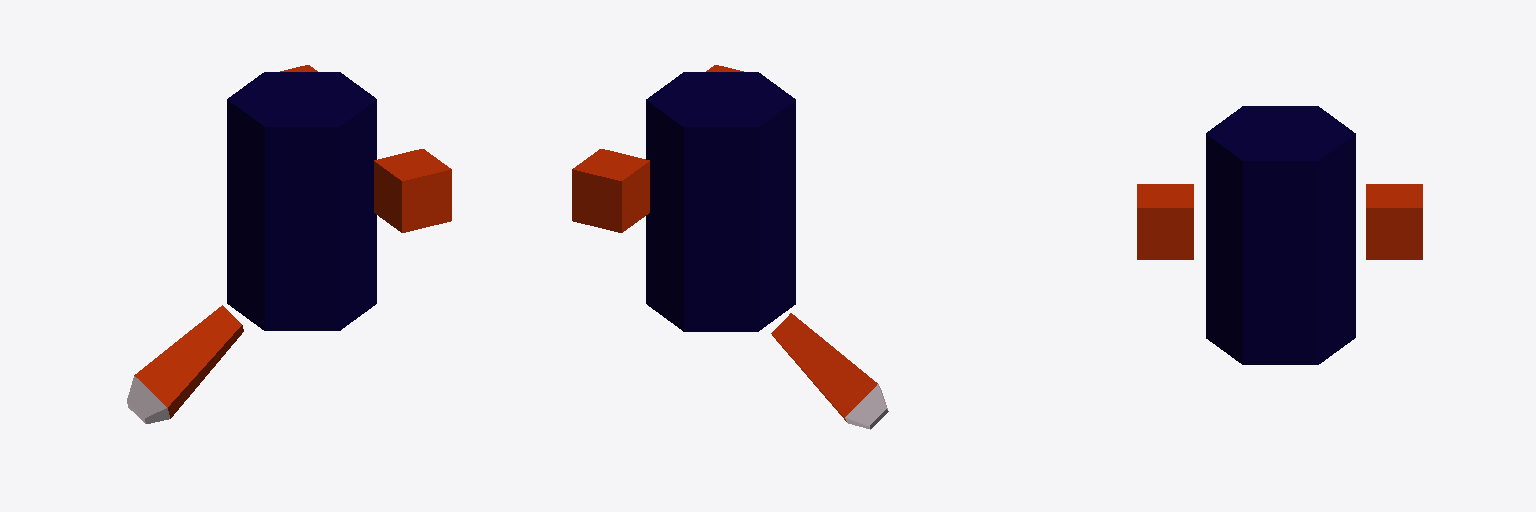
File: foxf.obj
3 renders of one model, left to right at view 1: azimuth 30°, elevation 25°; view 2: azimuth 150°, elevation 25°; view 3: azimuth 270°, elevation 25°, orthographic.
Visible parts, largest first — view 1: Cone; view 2: Cone; view 3: Cone.
Boxes of the visible parts, x1,y1,x2,y2 form: Cone: [127, 65, 451, 423]; Cone: [572, 65, 888, 429]; Cone: [1137, 106, 1422, 364].
Bounding box in the file's own units: 0.7631 × 0.8525 × 0.7621.